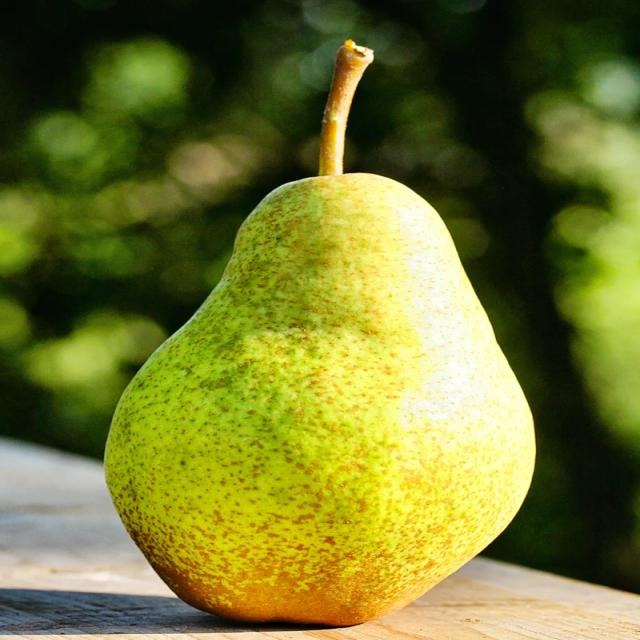pear: (102, 41, 538, 627)
